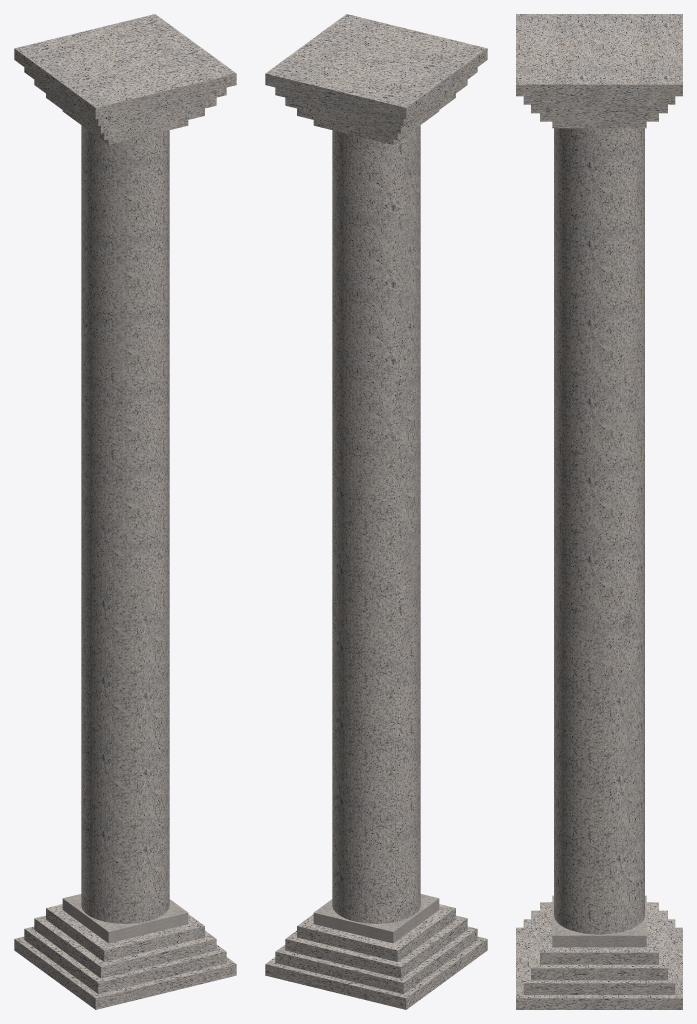
Rendered from column.fbx.
The picture shows the model from 3 angles, left to right: view 1: azimuth 30°, elevation 25°; view 2: azimuth 150°, elevation 25°; view 3: azimuth 270°, elevation 25°; orthographic projection. The views are drawn at different scales.
Parts seen in each view (by area): view 1: column; view 2: column; view 3: column.
Part boxes in pixels (<box>): column: <box>14,14,236,1009</box>; column: <box>265,14,487,1009</box>; column: <box>516,14,682,1009</box>.
Size of the model in its own units: 278 by 1703 by 278.
